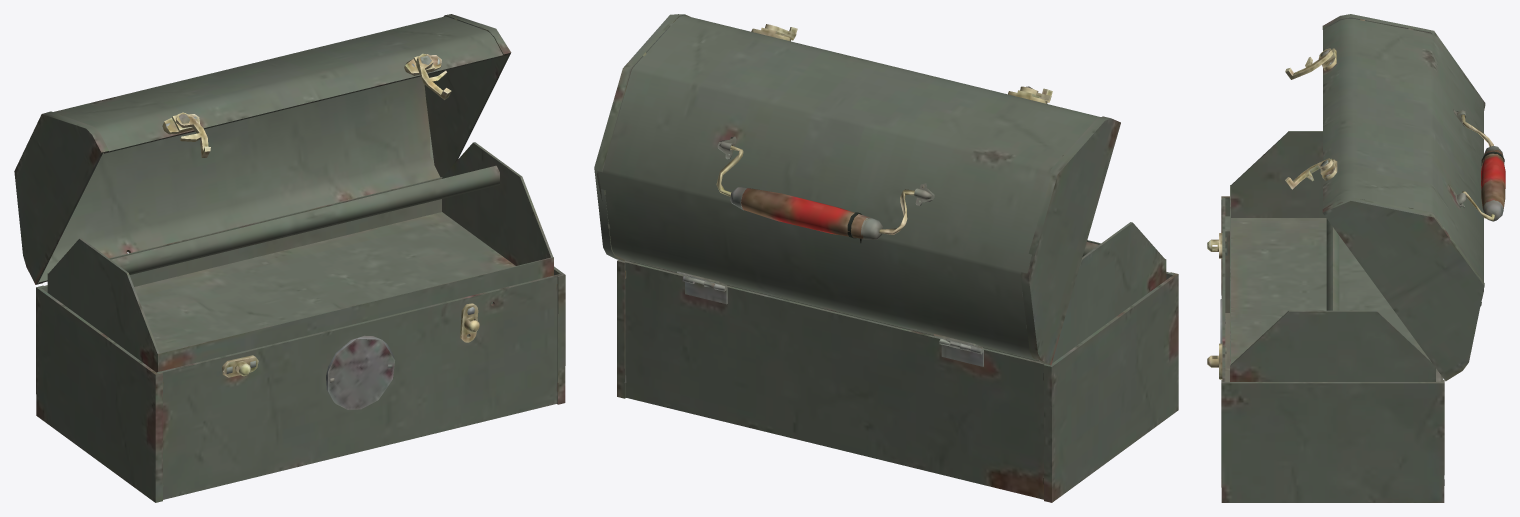
File: metal_toolbox.glb
3 renders of one model, left to right at view 1: azimuth 30°, elevation 25°; view 2: azimuth 150°, elevation 25°; view 3: azimuth 270°, elevation 25°, orthographic. The views are drawn at different scales.
Parts seen in each view (by area): view 1: metal_toolbox; view 2: metal_toolbox; view 3: metal_toolbox.
Part boxes in pixels (<box>): metal_toolbox: <box>14,14,565,502</box>; metal_toolbox: <box>594,14,1178,502</box>; metal_toolbox: <box>1207,14,1505,502</box>.
Size of the model in its own units: 0.4 by 0.3047 by 0.2702.
1 material, 1 textured.
